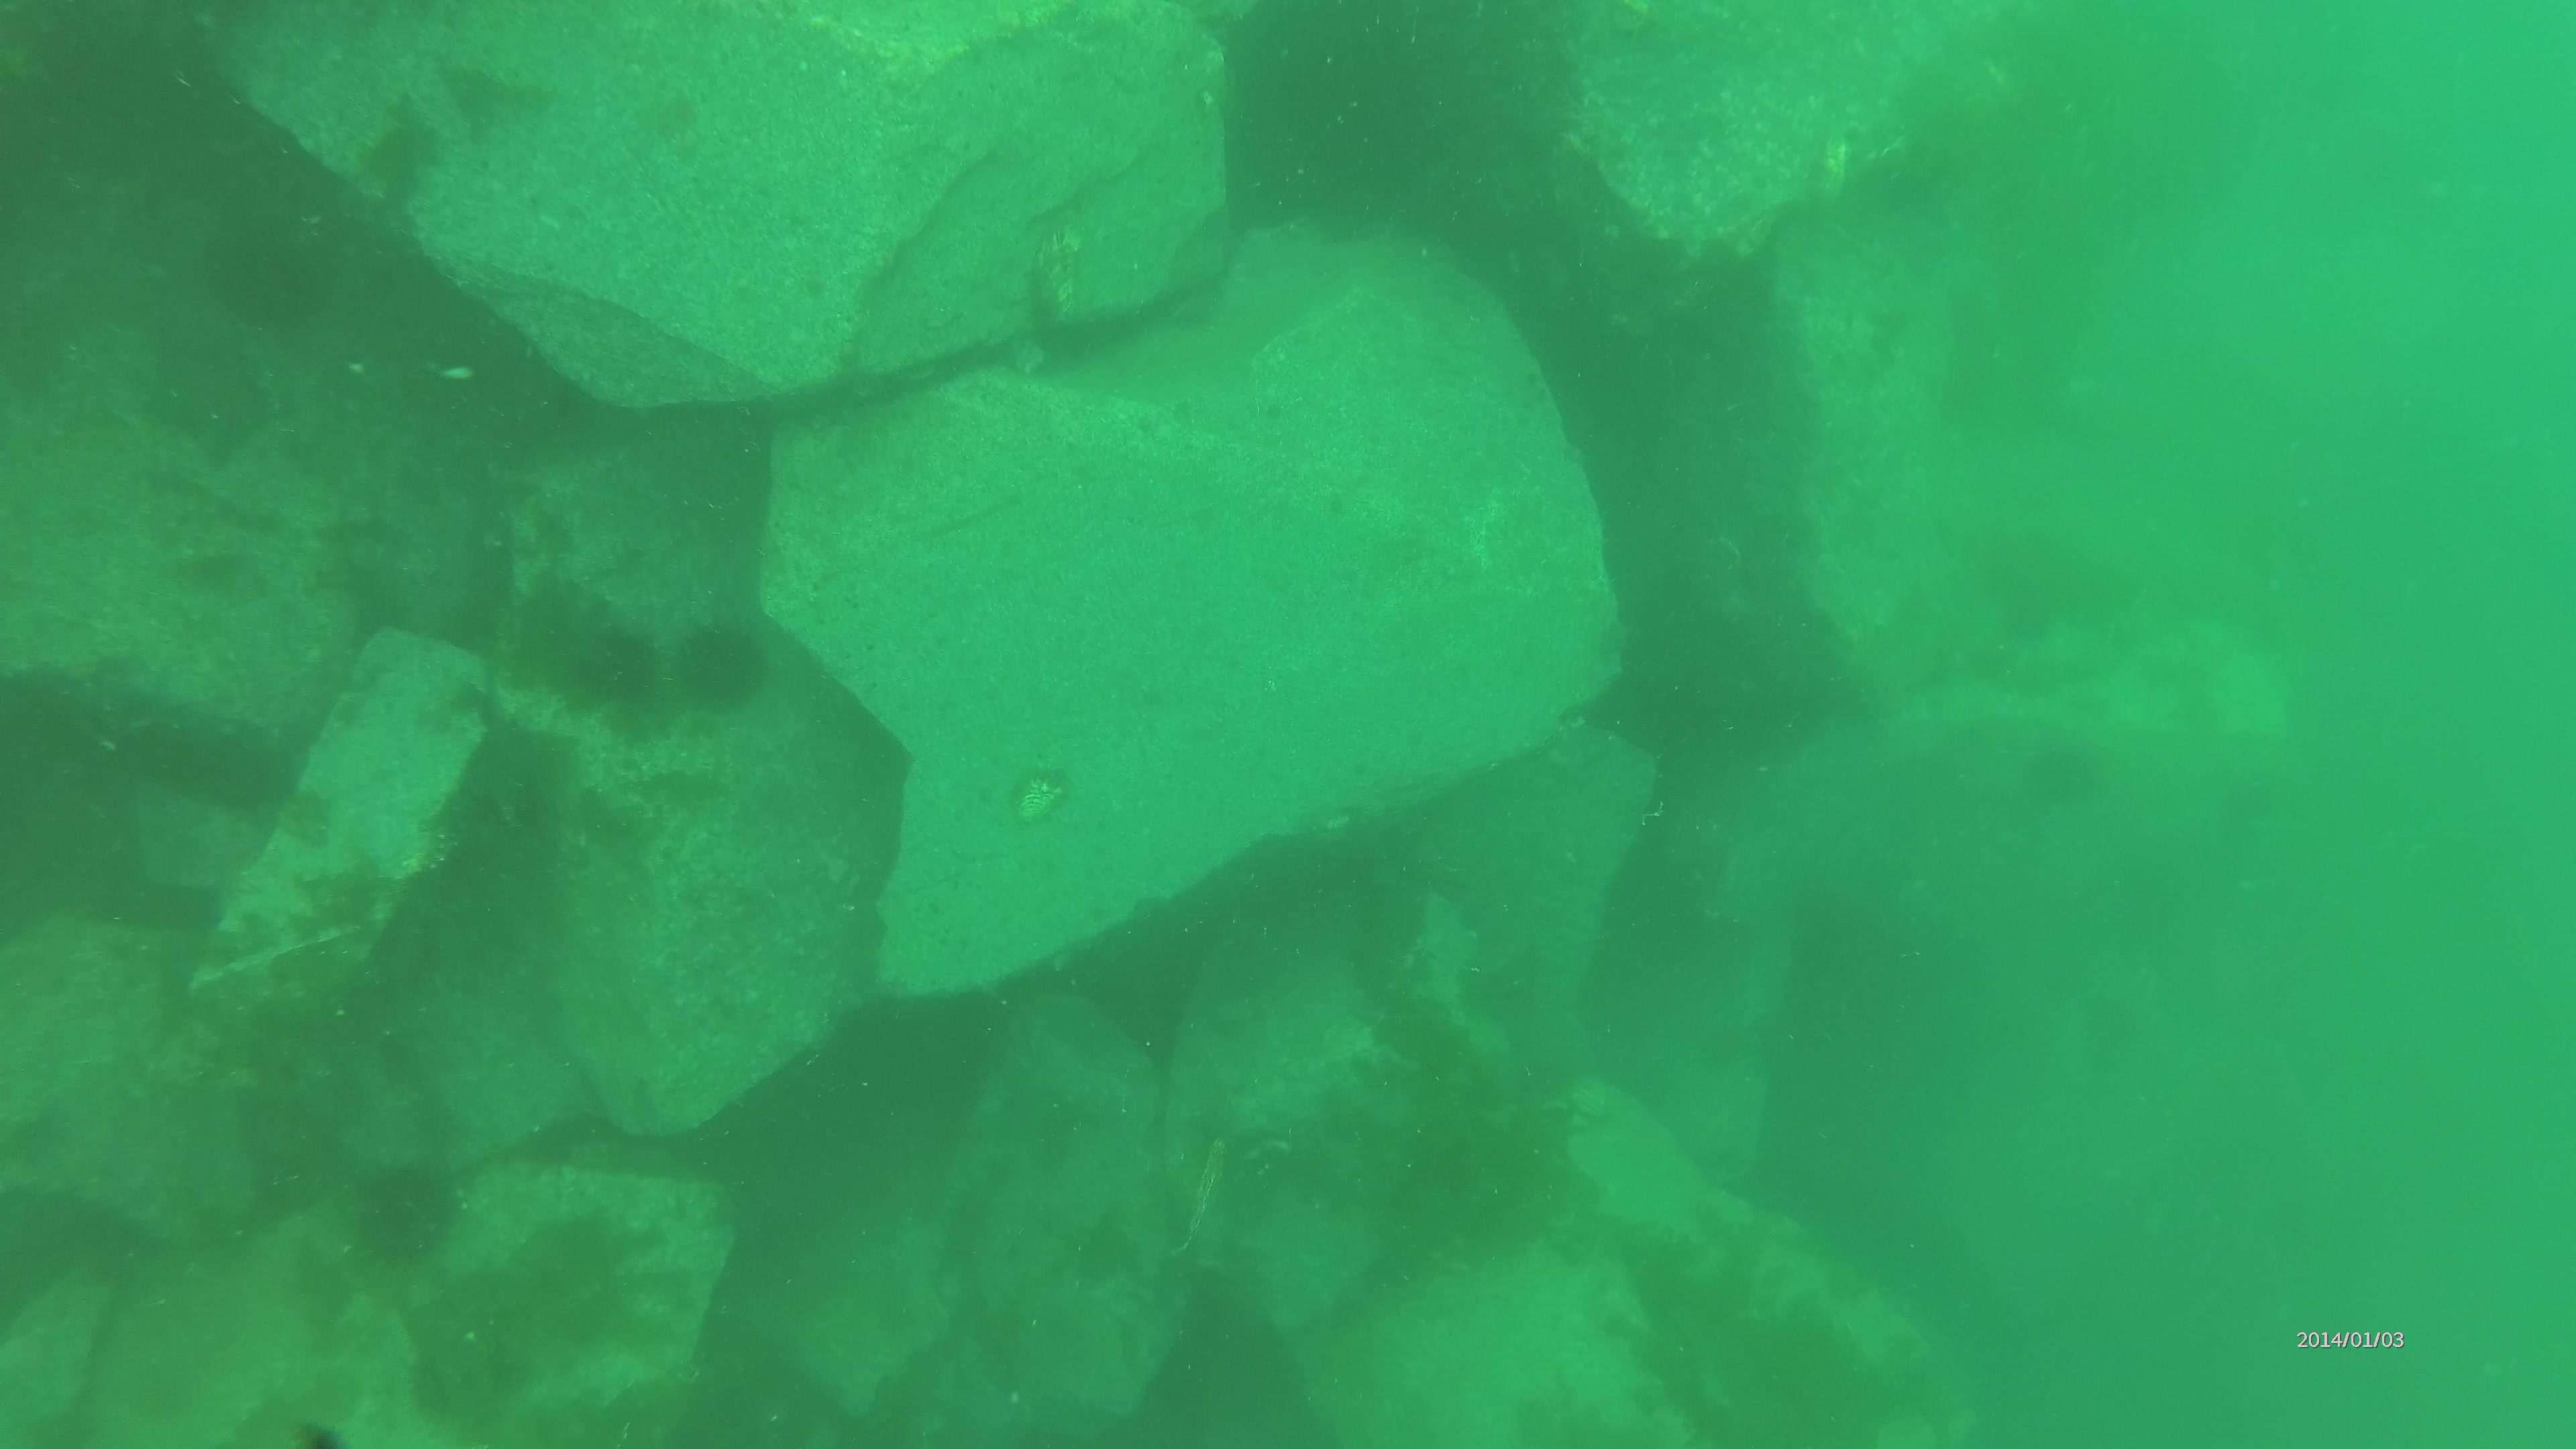echinus: (352, 1155, 460, 1265), (207, 234, 311, 318), (669, 617, 766, 706), (580, 628, 663, 706), (2029, 743, 2100, 803), (2217, 770, 2275, 826)
starfish: (150, 334, 281, 460)
